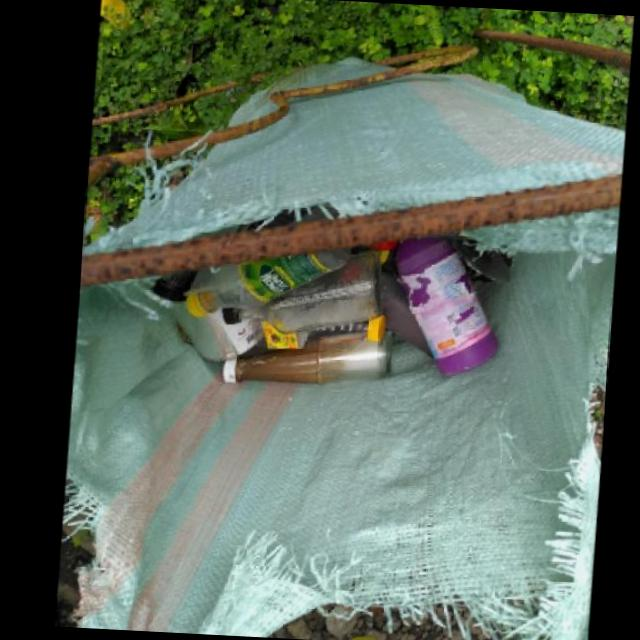chai_nhua: (389, 233, 494, 372), (180, 244, 344, 312)
chai_nhua_pet: (247, 310, 380, 346)
chai_thuy_tinh: (216, 250, 377, 328), (218, 326, 388, 379)
nhom: (167, 296, 249, 355)
